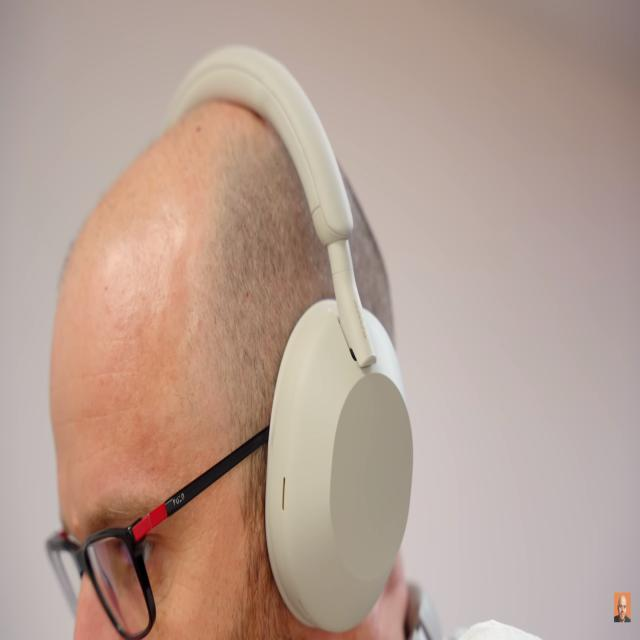Headphone: (171, 42, 416, 636)
